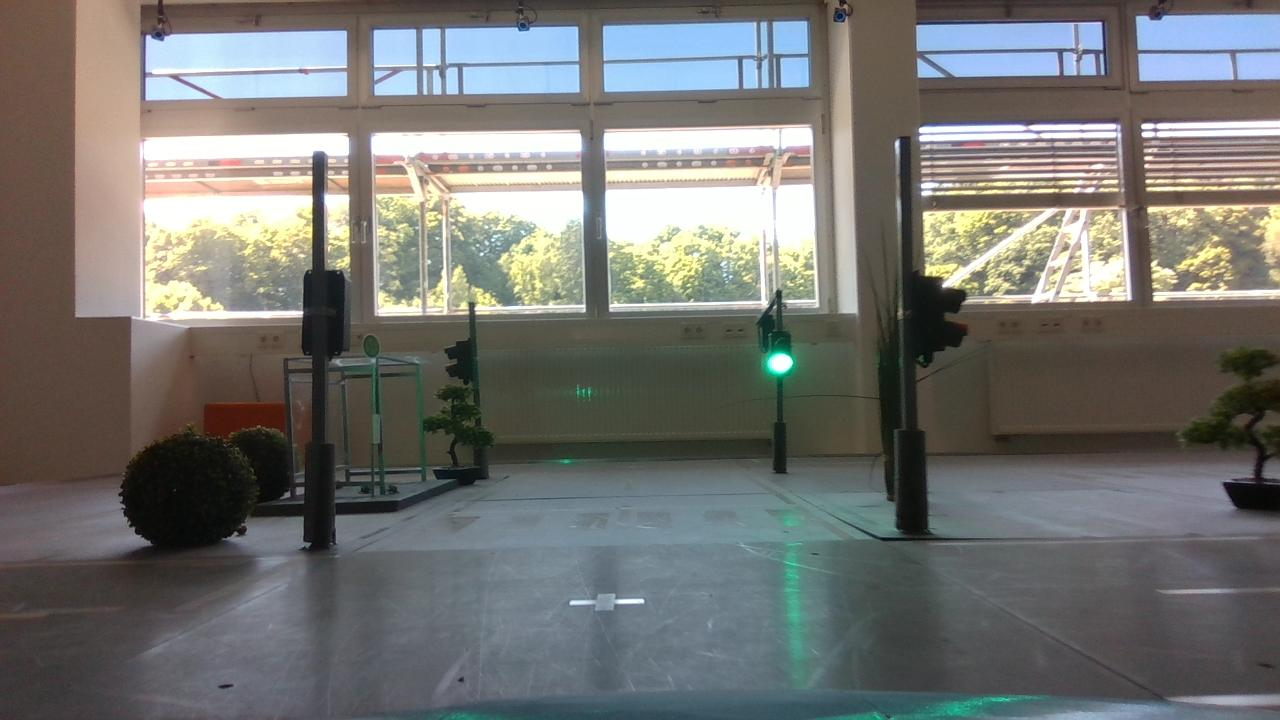traffic_light_green: (764, 321, 802, 383)
